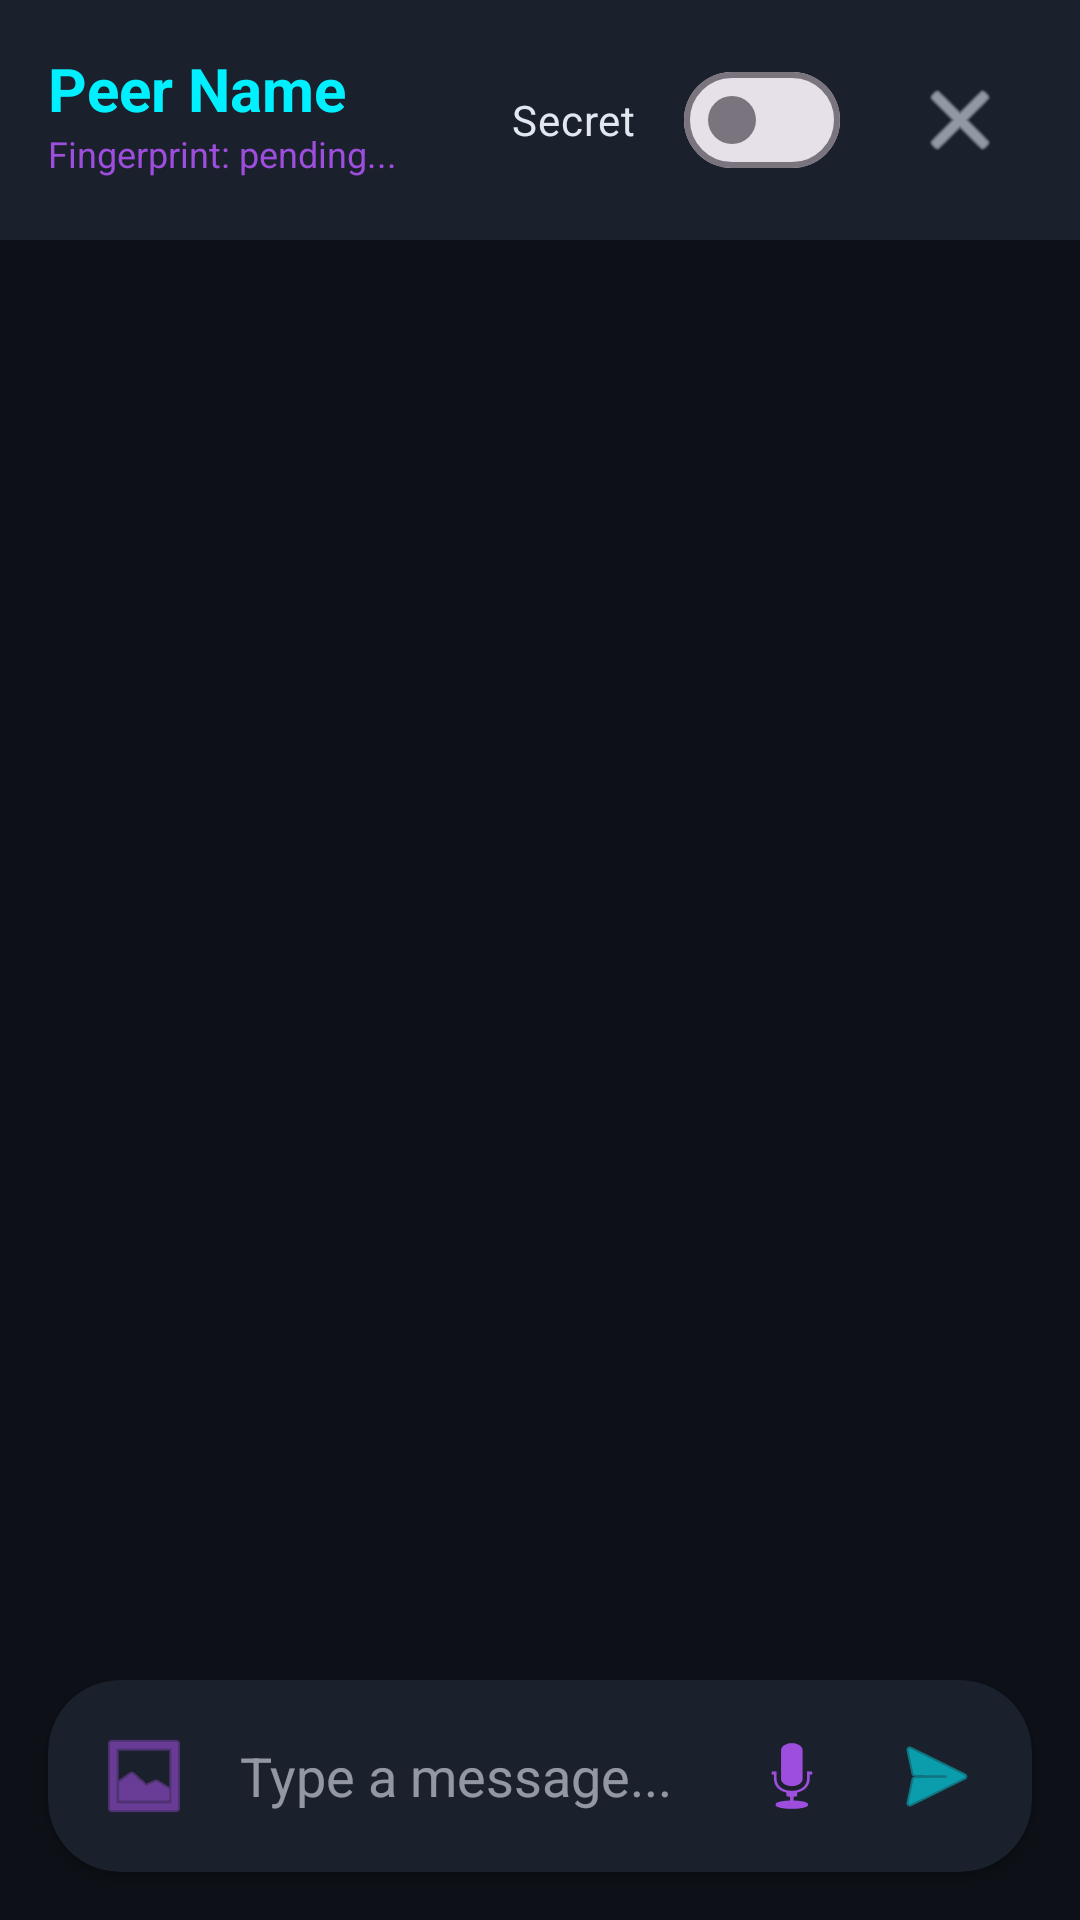

Screen size 1080*1920. Icon name, then its center in pixels as (x,y):
Attach File: (144,1776)
Disconnect: (960,120)
Hold to Talk: (792,1776)
Send: (937,1776)
